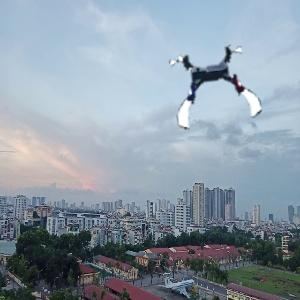drone: (172, 44, 262, 134)
